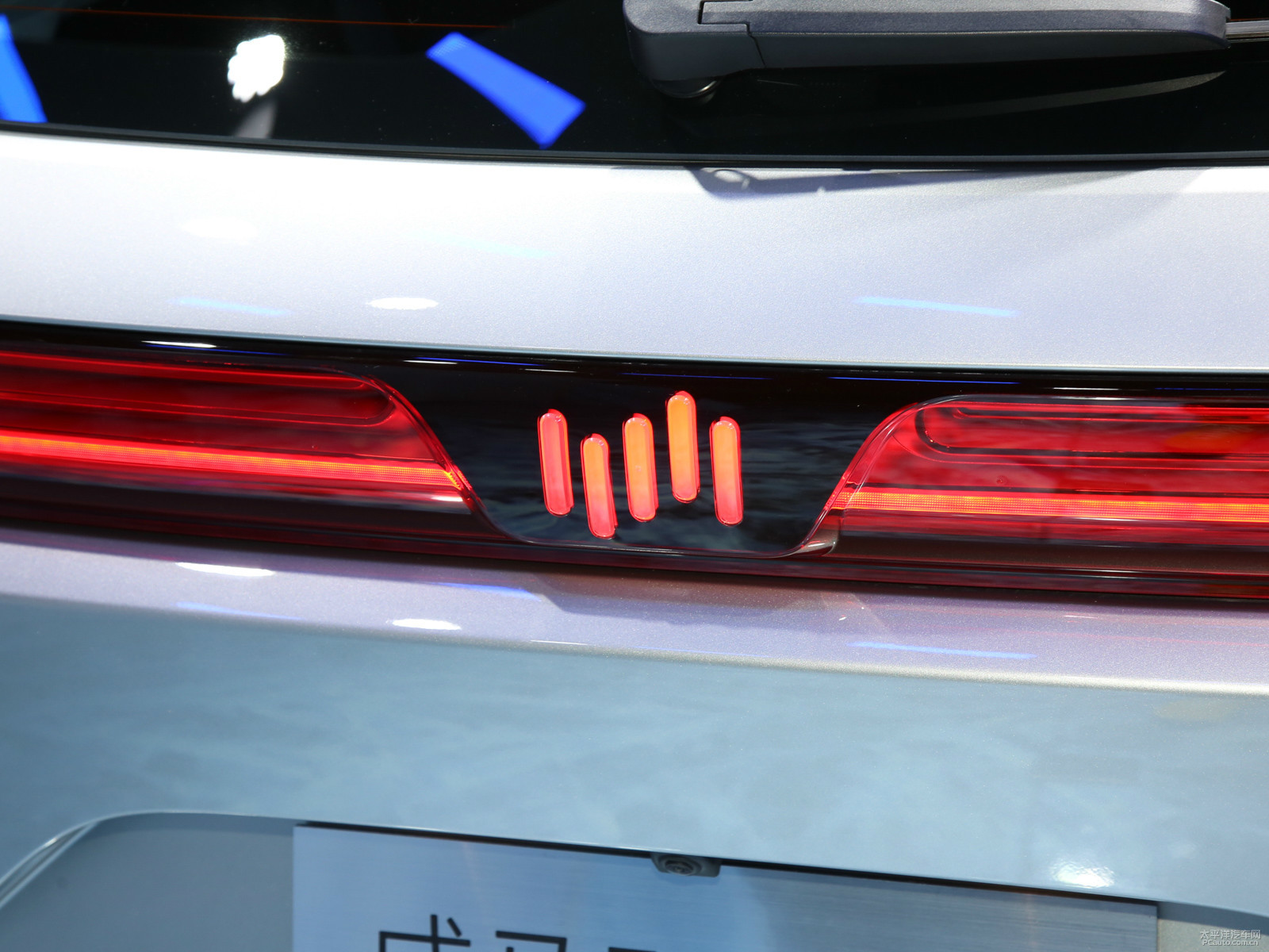WELTMEISTER: (539, 393, 743, 538)
